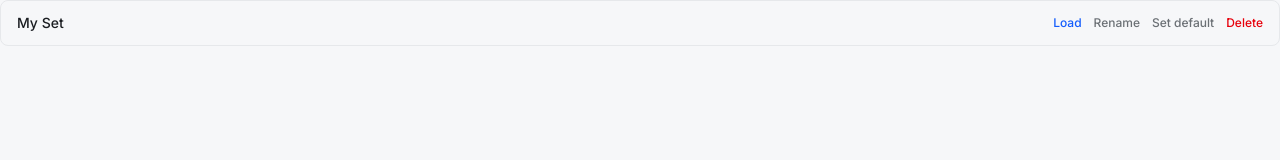
Test: SavedFiltersList › sets a set as default
The image size is (1280, 160).
Click the button "Set default". click: click(1183, 23)
box: [1152,15,1214,31]
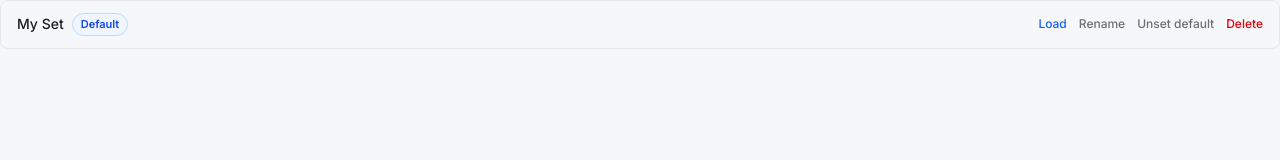
Now the text "Default" is shown, box [72,13,128,36]
